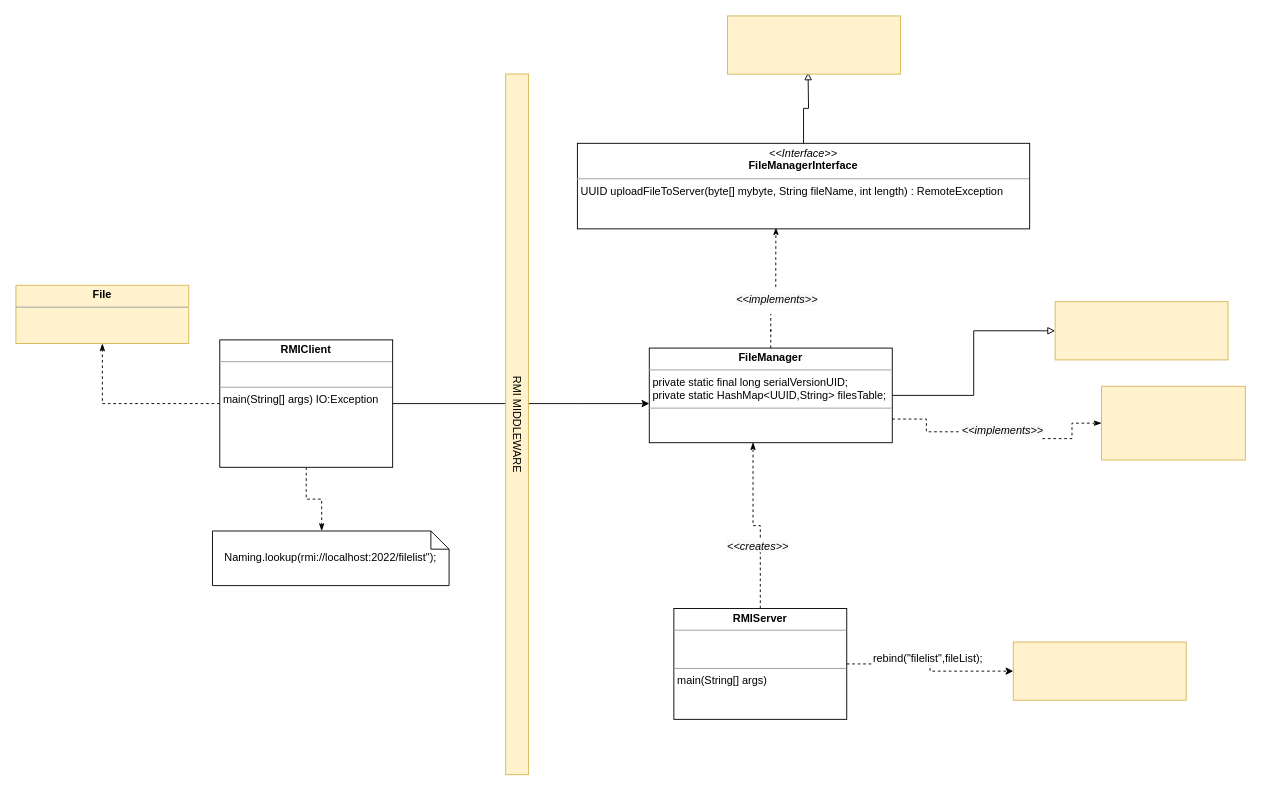
The diagram is 1261 pixels wide and 791 high, and some of its shapes have lost their labels. Here are the shapes that lost their labels. From the top down, the centre of each, then its label:
At [813,44]: "Remote".
At [1141,330]: "UnicastRemoteObject".
At [1173,422]: "Serializeble".
At [1099,670]: "Registry".
